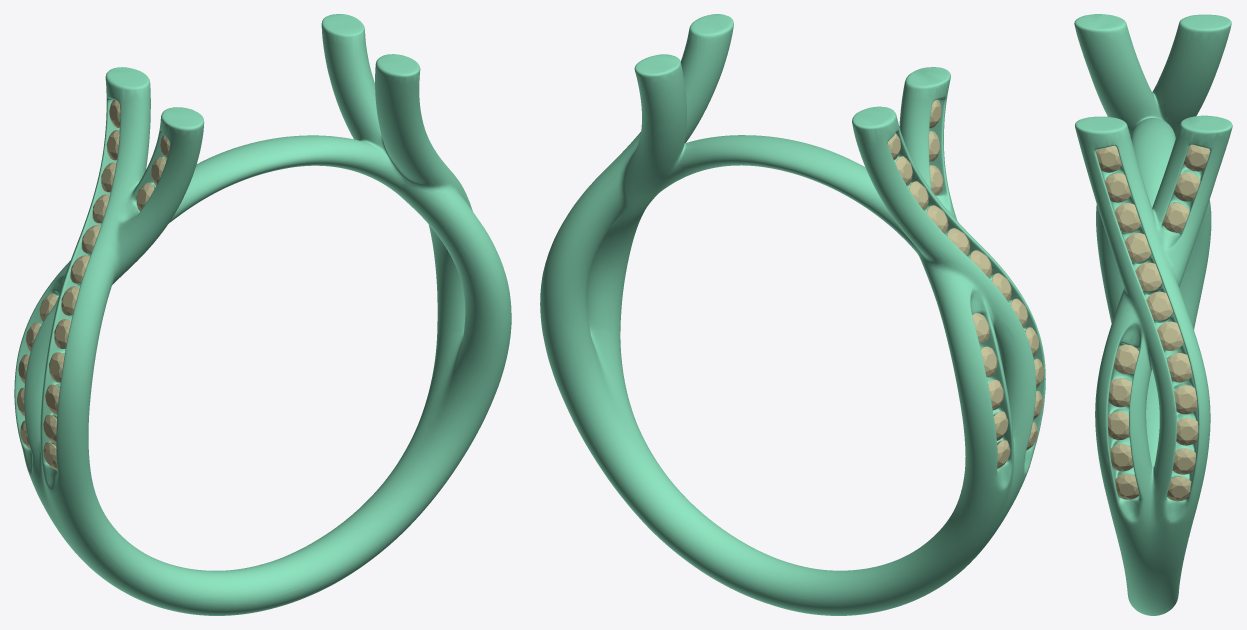
3 views of the same model, side by side, from view 1: azimuth 30°, elevation 25°; view 2: azimuth 150°, elevation 25°; view 3: azimuth 270°, elevation 25° (orthographic). The views are drawn at different scales.
Parts seen in each view (by area): view 1: Metal02; view 2: Metal02; view 3: Metal02, Diamond_Gem.030, Diamond_Gem.027, Diamond_Gem.029, Diamond_Gem.031, Diamond_Gem.034, Diamond_Gem.033, Diamond_Gem.026, Diamond_Gem.024, Diamond_Gem.032, Diamond_Gem.035, Diamond_Gem.023 (+9 smaller).
Part boxes in pixels (<box>): Metal02: <box>14,14,511,615</box>; Metal02: <box>540,14,1045,615</box>; Metal02: <box>1074,14,1232,615</box>; Diamond_Gem.030: <box>1114,203,1140,232</box>; Diamond_Gem.027: <box>1162,203,1189,232</box>; Diamond_Gem.029: <box>1104,173,1131,202</box>; Diamond_Gem.031: <box>1124,233,1151,262</box>; Diamond_Gem.034: <box>1167,353,1192,382</box>; Diamond_Gem.033: <box>1157,321,1183,350</box>; Diamond_Gem.026: <box>1173,172,1200,201</box>; Diamond_Gem.024: <box>1114,344,1138,374</box>; Diamond_Gem.032: <box>1135,262,1162,291</box>; Diamond_Gem.035: <box>1174,385,1197,414</box>; Diamond_Gem.023: <box>1108,378,1131,407</box>.
Bounding box in the file's own units: 21.07 × 23.3 × 6.43.
